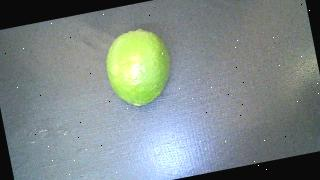EXPORTACION: (101, 24, 178, 110)
